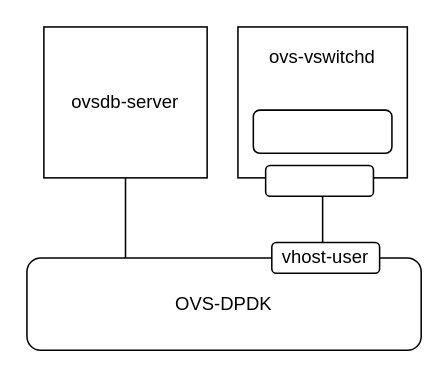
Image size: 448x377. Some labels were removed from this diagram. The shapes that lost their labels are listed below. From the top down, each one's centre as x and y in pixels, then its label:
point 322,131: dpdk
point 318,180: virtio-user
